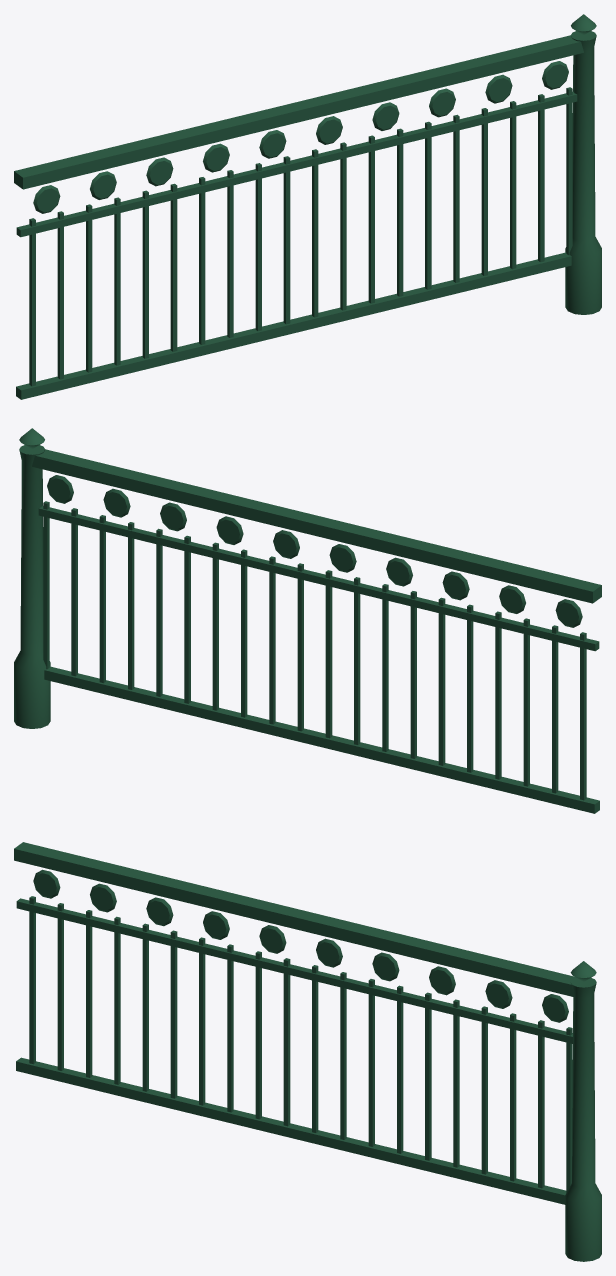
The model's file is SM_Prop_coast_promrail_1.glb.
The picture shows the model from 3 angles, top to bottom: view 1: azimuth 30°, elevation 25°; view 2: azimuth 150°, elevation 25°; view 3: azimuth 330°, elevation 25°; orthographic projection.
Visible parts, largest first — view 1: SM_Prop_coast_promrail_1; view 2: SM_Prop_coast_promrail_1; view 3: SM_Prop_coast_promrail_1.
Boxes of the visible parts, box(x1,y1,x2,y2) form: SM_Prop_coast_promrail_1: box(14, 14, 601, 399); SM_Prop_coast_promrail_1: box(14, 428, 601, 813); SM_Prop_coast_promrail_1: box(14, 842, 601, 1261).
Size of the model in its own units: 2.57 by 1.24 by 0.14.
